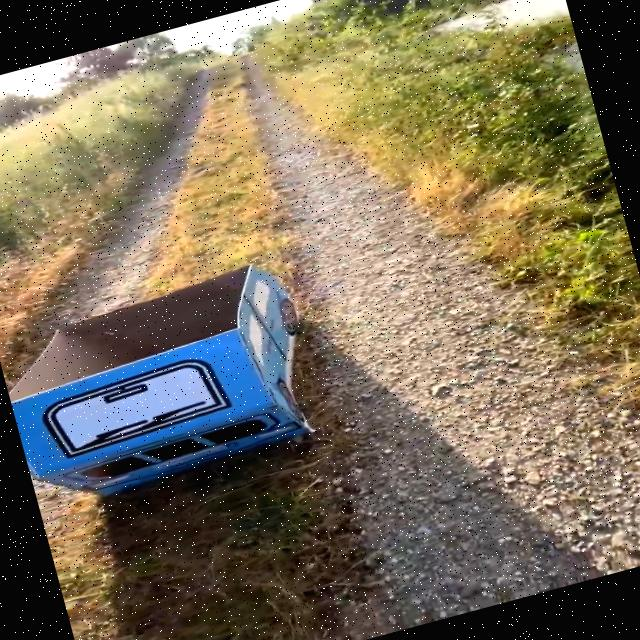blue_car: (0, 220, 419, 543)
